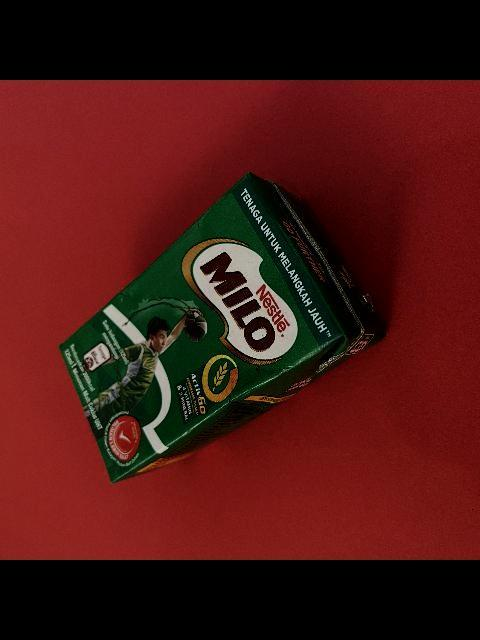drinkpack: (51, 168, 390, 484)
